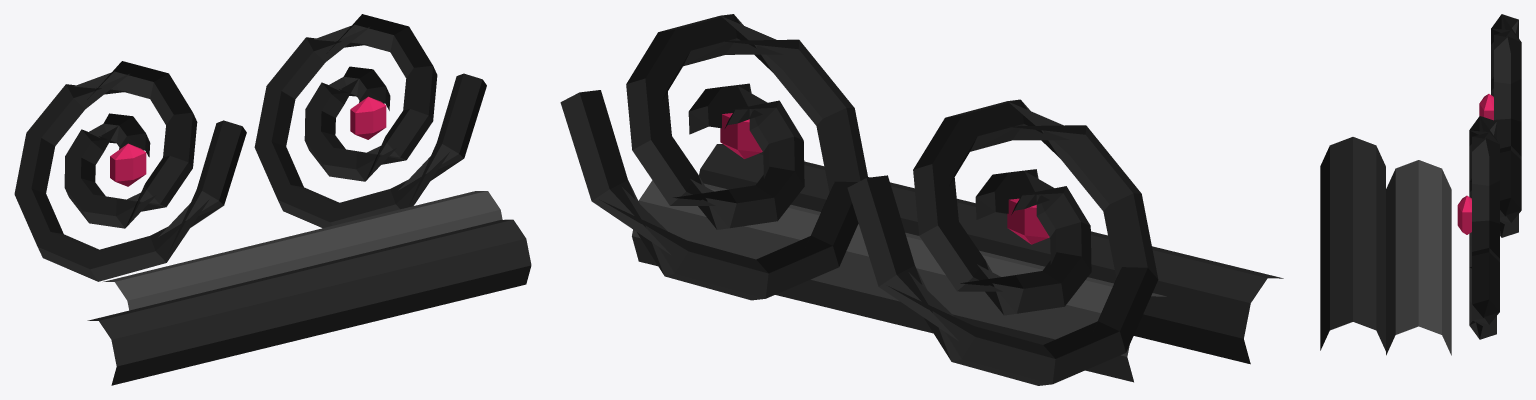
The model's file is lakrits.glb.
The picture shows the model from 3 angles, left to right: view 1: azimuth 30°, elevation 25°; view 2: azimuth 150°, elevation 25°; view 3: azimuth 270°, elevation 25°; orthographic projection. The views are drawn at different scales.
Parts seen in each view (by area): view 1: lakrits; view 2: lakrits; view 3: lakrits.
Part boxes in pixels (left/top/right/bottom): lakrits: left=14, top=14, right=531, bottom=385; lakrits: left=560, top=14, right=1283, bottom=385; lakrits: left=1320, top=14, right=1521, bottom=355.
Size of the model in its own units: 0.442 by 0.2166 by 0.184.
